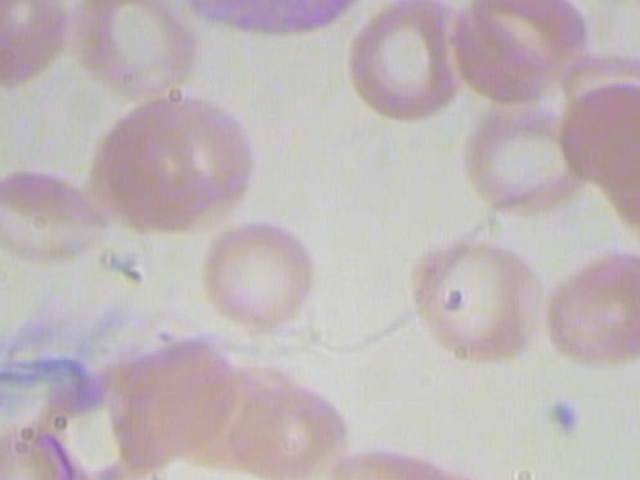Platelets: (533, 396, 585, 440)
RBC: (81, 90, 257, 239), (405, 228, 552, 372), (453, 94, 592, 219), (346, 0, 485, 119), (198, 216, 331, 338), (224, 370, 353, 480), (64, 0, 203, 101), (456, 0, 594, 101), (0, 147, 113, 270), (538, 242, 640, 373), (0, 0, 85, 91), (620, 0, 640, 44)
WBC: (154, 0, 433, 36)
